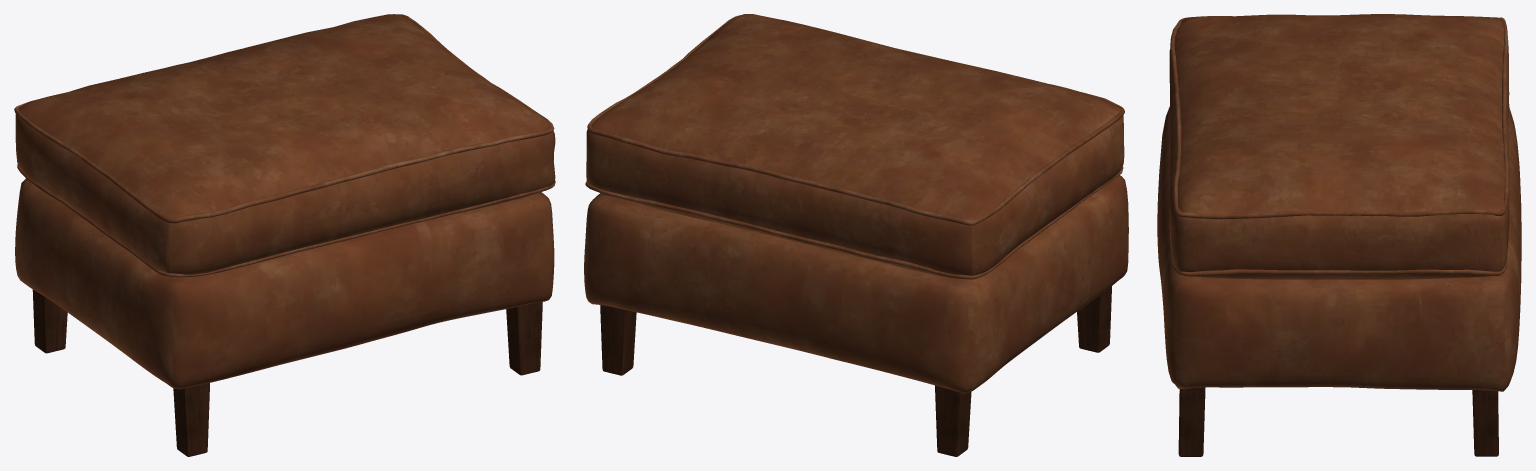
File: abo-B075X4VW5G.glb
The picture shows the model from 3 angles, left to right: view 1: azimuth 30°, elevation 25°; view 2: azimuth 150°, elevation 25°; view 3: azimuth 270°, elevation 25°; orthographic projection. The views are drawn at different scales.
Bounding box in the file's own units: 0.665 × 0.418 × 0.501.
1 material, 1 textured.
